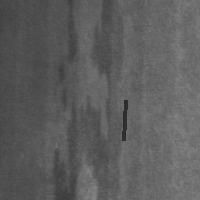inclusion: (47, 94, 118, 199), (90, 1, 128, 117), (50, 2, 80, 90), (121, 98, 127, 142)
